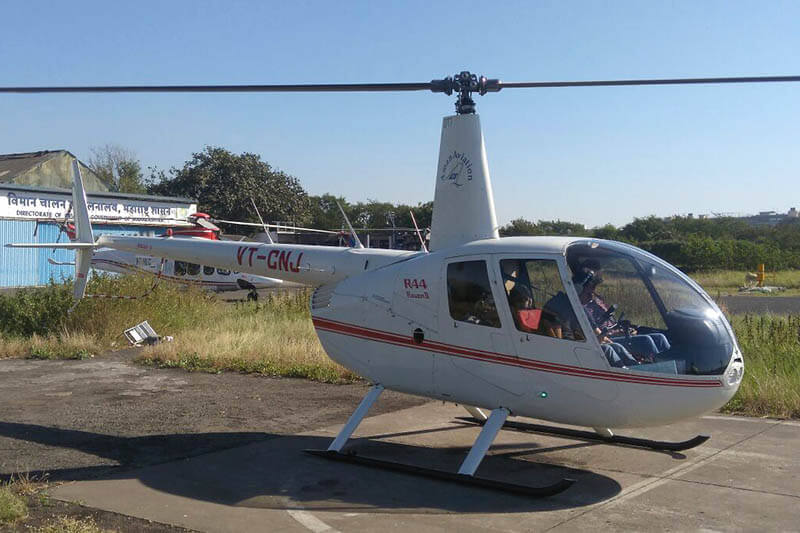Helicopter: (41, 52, 789, 451)
